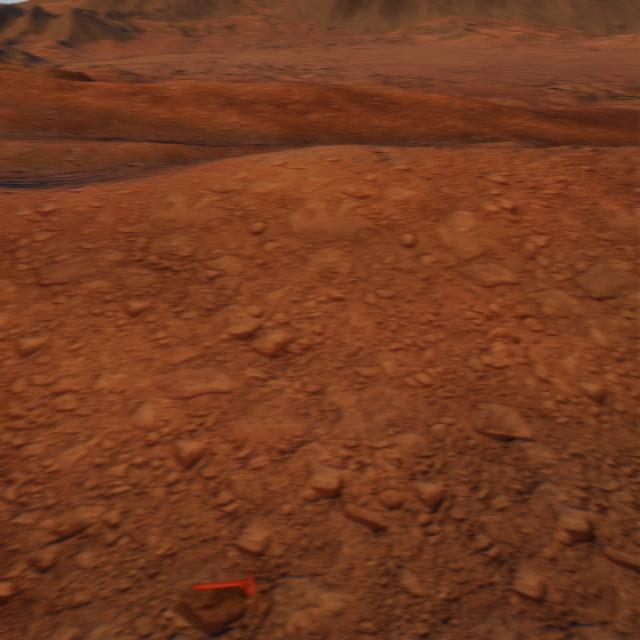newhammer: (193, 569, 253, 595)
